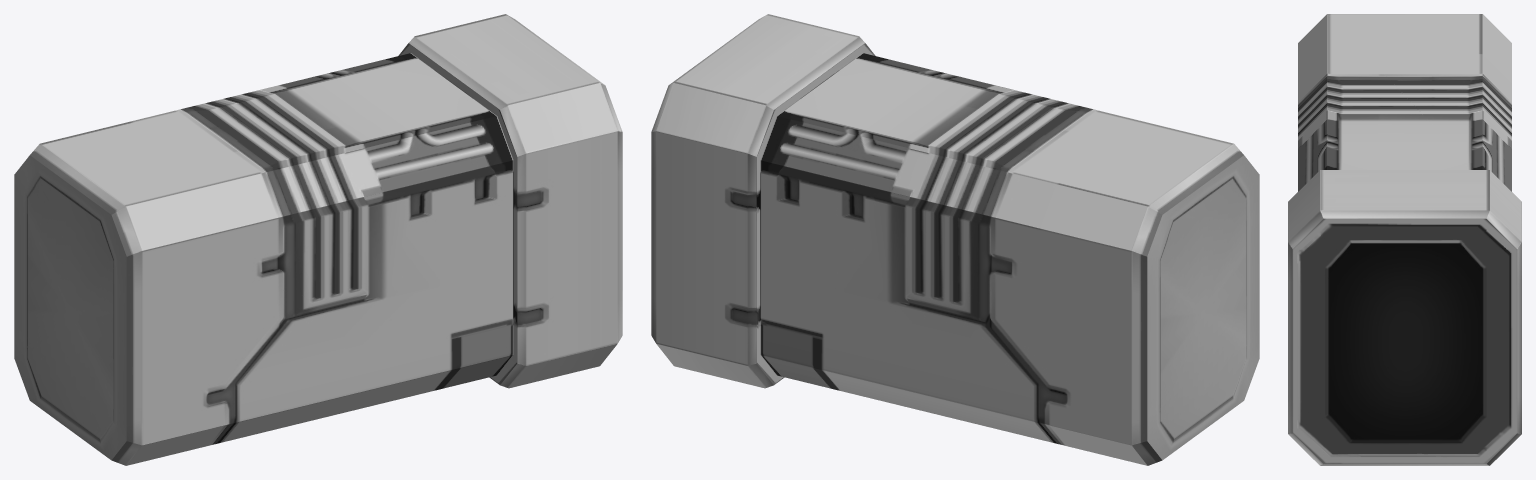
The model's file is launcher.fbx.
3 views of the same model, side by side, from view 1: azimuth 30°, elevation 25°; view 2: azimuth 150°, elevation 25°; view 3: azimuth 270°, elevation 25° (orthographic). The views are drawn at different scales.
Parts seen in each view (by area): view 1: launcher; view 2: launcher; view 3: launcher.
Part boxes in pixels (x1,y1,x2,y2): launcher: (14,14,622,465); launcher: (651,14,1259,465); launcher: (1288,14,1521,465).
Bounding box in the file's own units: 2.89 × 1.6 × 1.33.
